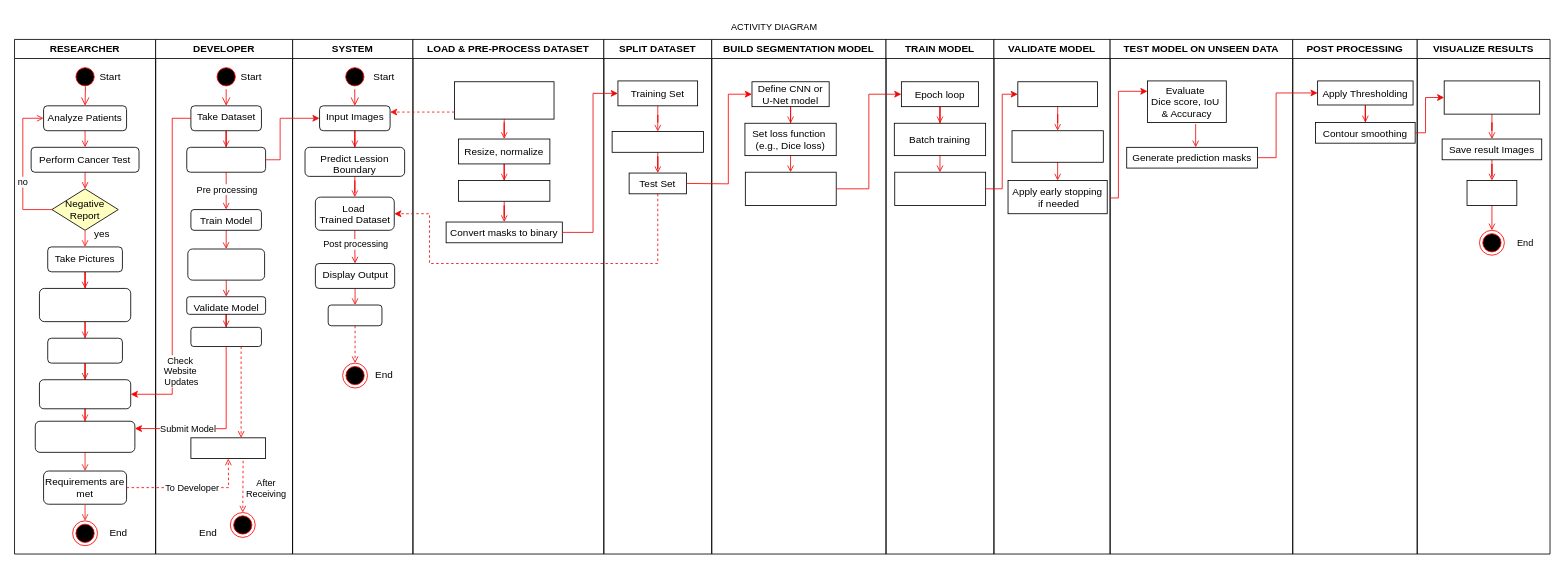
The diagram is 1565 pixels wide and 569 high, and some of its shapes have lost their labels. Here are the shapes that lost their labels. From the top down, the centre of each, then its label:
At [504,100]: "Load Dermoscopic Images".
At [1057,94]: "Evaluate on Validation Set".
At [1491,97]: "Overlay masks on original images".
At [226,159]: "Load Dataset".
At [657,141]: "Validation Set".
At [1057,146]: "Tune hyperparameters".
At [504,190]: "Augment images".
At [790,188]: "Choose optimizer (e.g., Adam)".
At [940,188]: "Monitor loss / Accuracy".
At [1491,192]: "Deploy".
At [226,264]: "Tune Hyperparams".
At [85,305]: "Make Dermascopic Images".
At [354,315]: "Saved".
At [84,350]: "Make Dataset".
At [225,337]: "Save Model".
At [85,394]: "Upload Data on Website".
At [84,436]: "Make Competition and Wining Prize".
At [228,448]: "Sends Reward".
